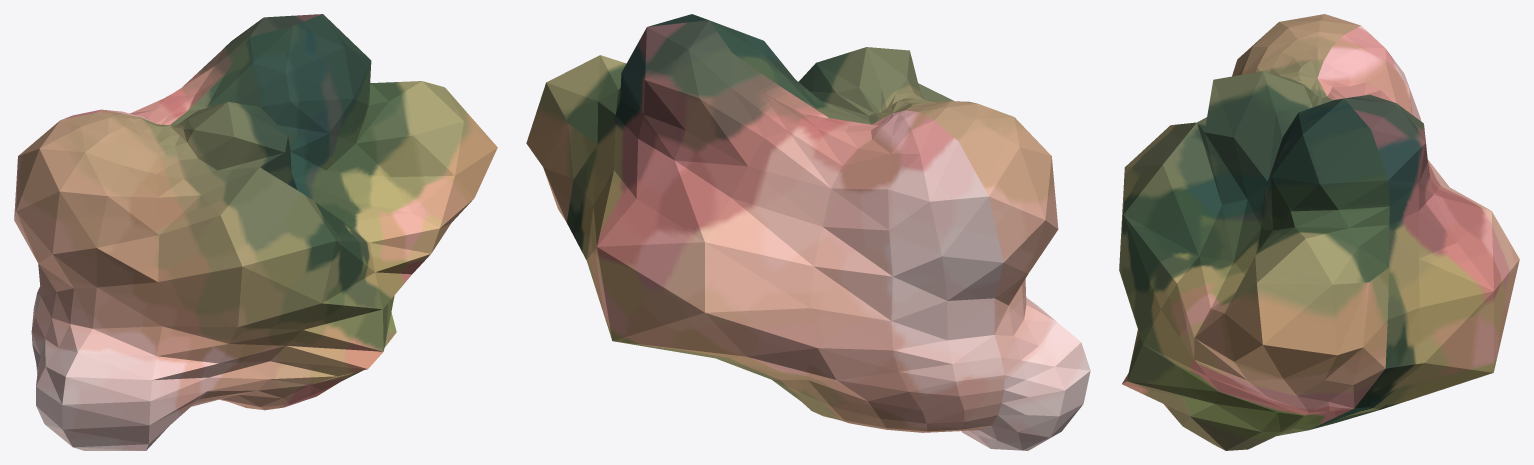
The model's file is CloudRose.fbx.
3 views of the same model, side by side, from view 1: azimuth 30°, elevation 25°; view 2: azimuth 150°, elevation 25°; view 3: azimuth 270°, elevation 25° (orthographic). The views are drawn at different scales.
Parts seen in each view (by area): view 1: cloudRose; view 2: cloudRose; view 3: cloudRose.
Boxes of the visible parts, x1=… form: cloudRose: x1=14, y1=14, x2=497, y2=450; cloudRose: x1=526, y1=14, x2=1090, y2=450; cloudRose: x1=1119, y1=14, x2=1519, y2=450.
Bounding box in the file's own units: 5.82 × 4.18 × 3.95.
